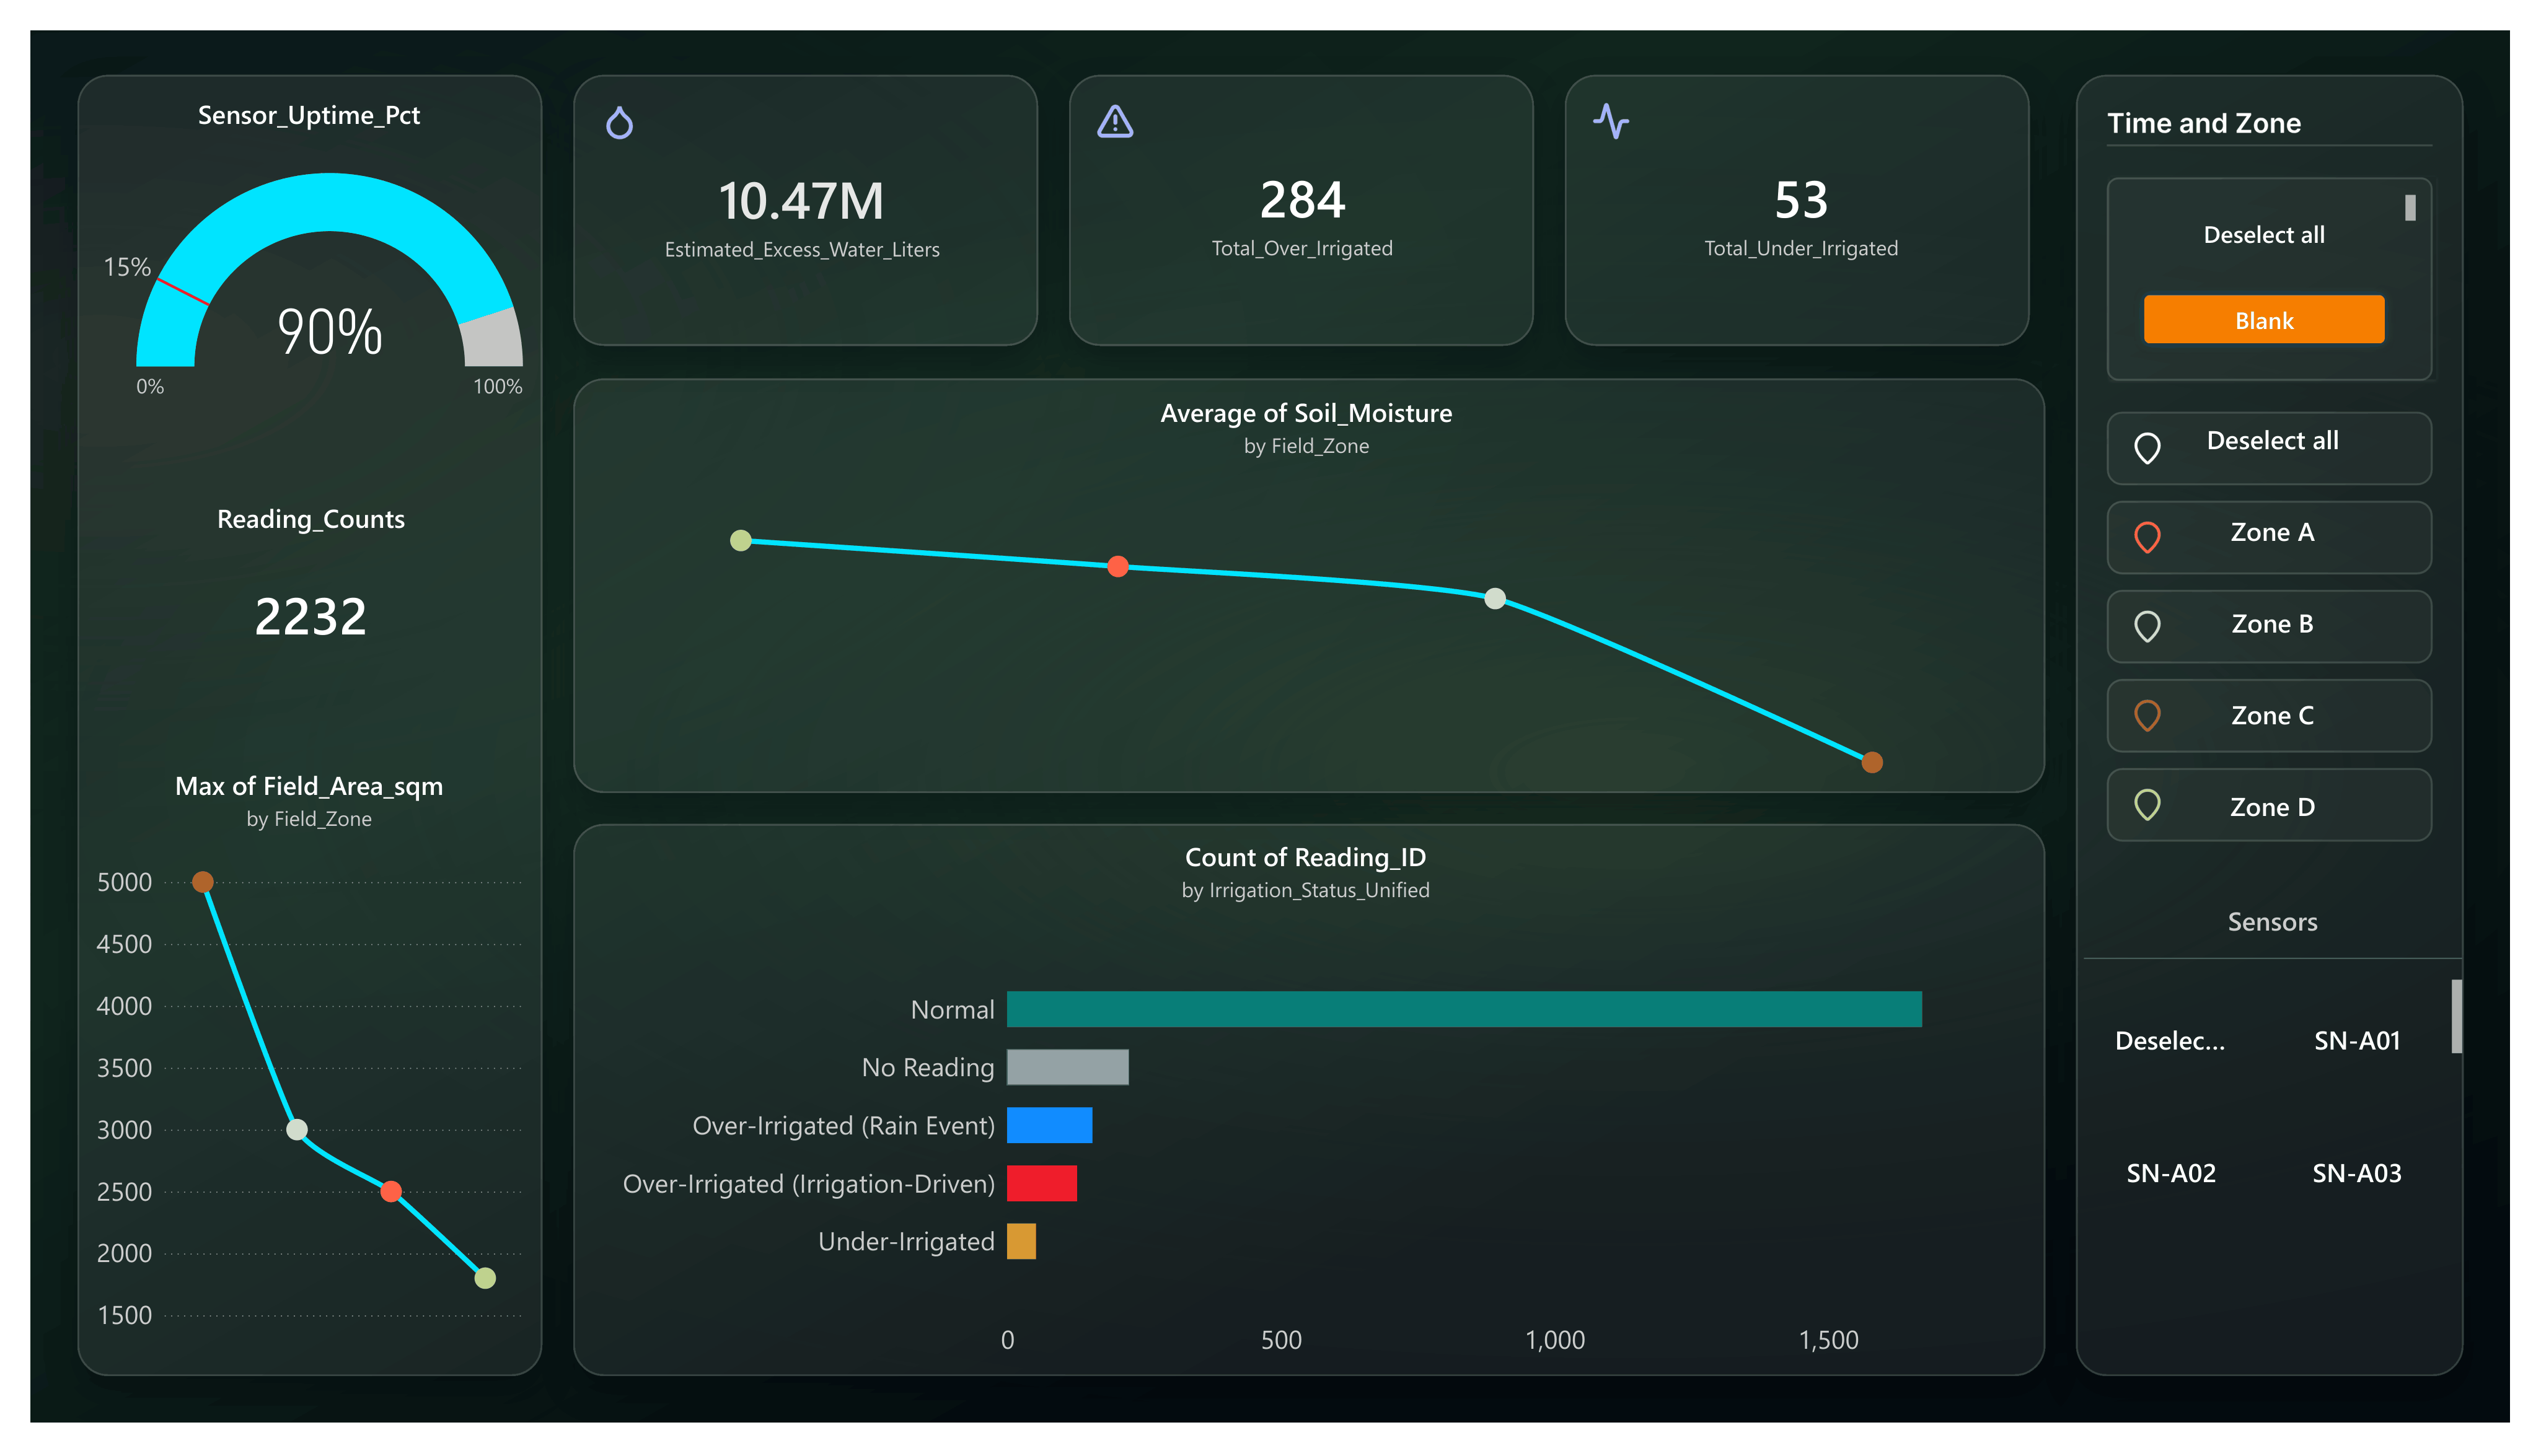

What the dashboard file says about the page in this screenshot:
{"tool":"powerbi","page":{"name":"Page 3","canvas":[1920,1080],"ordinal":2},"visuals":[{"type":"advancedSlicerVisual","fields":{"Values":["sensor_readings_clean.Date"]},"box":[1610,113.3,253.3,156.7],"z":0},{"type":"gauge","fields":{"Y":["sensor_readings_clean.Sensor_Uptime_Pct"]},"box":[37.5,37.5,355,282.5],"z":1000},{"type":"areaChart","fields":{"Y":["Max(field_zone_reference.Field_Area_sqm)"],"Category":["field_zone_reference.Field_Zone"]},"box":[38.1,558.3,355.3,463.2],"z":2000},{"type":"card","fields":{"Values":["sensor_readings_clean.Estimated_Excess_Water_Liters"]},"box":[415,33,365,214],"z":3000},{"type":"card","fields":{"Values":["sensor_readings_clean.Total_Over_Irrigated"]},"box":[805,33,360,214],"z":4000},{"type":"card","fields":{"Values":["sensor_readings_clean.Total_Under_Irrigated"]},"box":[1188,33,367,214],"z":5000},{"type":"areaChart","fields":{"Category":["field_zone_reference.Field_Zone"],"Y":["Avg(sensor_readings_clean.Soil_Moisture)"]},"box":[420.5,269.3,1134.1,321.3],"z":6000},{"type":"barChart","fields":{"Y":["CountNonNull(sensor_readings_clean.Reading_ID)"],"Category":["sensor_readings_clean.Irrigation_Status_Unified"]},"box":[420,612.5,1135,432.5],"z":7000},{"type":"advancedSlicerVisual","fields":{"Values":["field_zone_reference.Field_Zone"]},"box":[1610,270,252.9,382.9],"z":8000},{"type":"advancedSlicerVisual","title":"Sensors","fields":{"Values":["sensor_reference.Sensor_ID"]},"box":[1590,675,292.5,260],"z":9000},{"type":"card","title":"Reading_Counts","fields":{"Values":["CountNonNull(sensor_readings_clean.Reading_ID)"]},"box":[39.5,349.4,355.4,164.1],"z":10000}]}

Visuals, with their boxes on the page's 1920x1080 design canvas (x1, y1, x2, y2). These are canvas units, not pixel positions in the 2541x1456 screenshot, which may show the page scaled, cropped or inside an application window:
advancedSlicerVisual - sensor_readings_clean.Date: {"x1": 1610, "y1": 113, "x2": 1863, "y2": 270}
gauge - sensor_readings_clean.Sensor_Uptime_Pct: {"x1": 38, "y1": 38, "x2": 392, "y2": 320}
areaChart - Max(field_zone_reference.Field_Area_sqm) x field_zone_reference.Field_Zone: {"x1": 38, "y1": 558, "x2": 393, "y2": 1022}
card - sensor_readings_clean.Estimated_Excess_Water_Liters: {"x1": 415, "y1": 33, "x2": 780, "y2": 247}
card - sensor_readings_clean.Total_Over_Irrigated: {"x1": 805, "y1": 33, "x2": 1165, "y2": 247}
card - sensor_readings_clean.Total_Under_Irrigated: {"x1": 1188, "y1": 33, "x2": 1555, "y2": 247}
areaChart - field_zone_reference.Field_Zone x Avg(sensor_readings_clean.Soil_Moisture): {"x1": 420, "y1": 269, "x2": 1555, "y2": 591}
barChart - CountNonNull(sensor_readings_clean.Reading_ID) x sensor_readings_clean.Irrigation_Status_Unified: {"x1": 420, "y1": 612, "x2": 1555, "y2": 1045}
advancedSlicerVisual - field_zone_reference.Field_Zone: {"x1": 1610, "y1": 270, "x2": 1863, "y2": 653}
"Sensors" advancedSlicerVisual: {"x1": 1590, "y1": 675, "x2": 1882, "y2": 935}
"Reading_Counts" card: {"x1": 40, "y1": 349, "x2": 395, "y2": 514}
